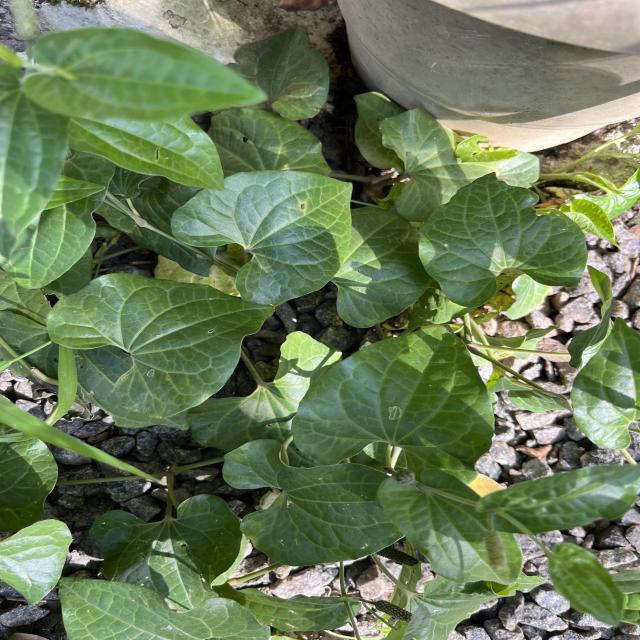Piper longum: (44, 270, 280, 422), (289, 320, 497, 490), (168, 168, 356, 306), (415, 170, 591, 312)
